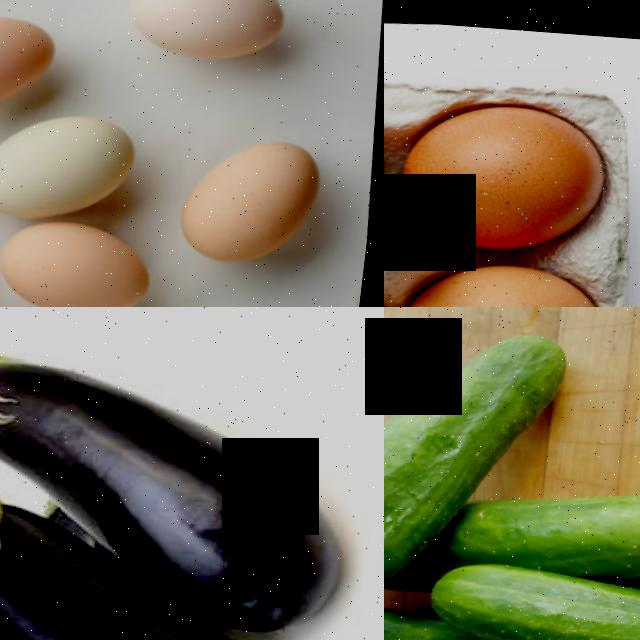cucumber: (384, 316, 571, 489), (424, 538, 640, 640), (458, 463, 640, 576), (384, 373, 471, 596)
egg_: (398, 89, 617, 252), (179, 124, 338, 263), (0, 97, 148, 221), (1, 206, 166, 307), (390, 242, 619, 307), (121, 0, 298, 62), (0, 0, 66, 114)
eggplant: (0, 330, 289, 497), (0, 475, 110, 640)
